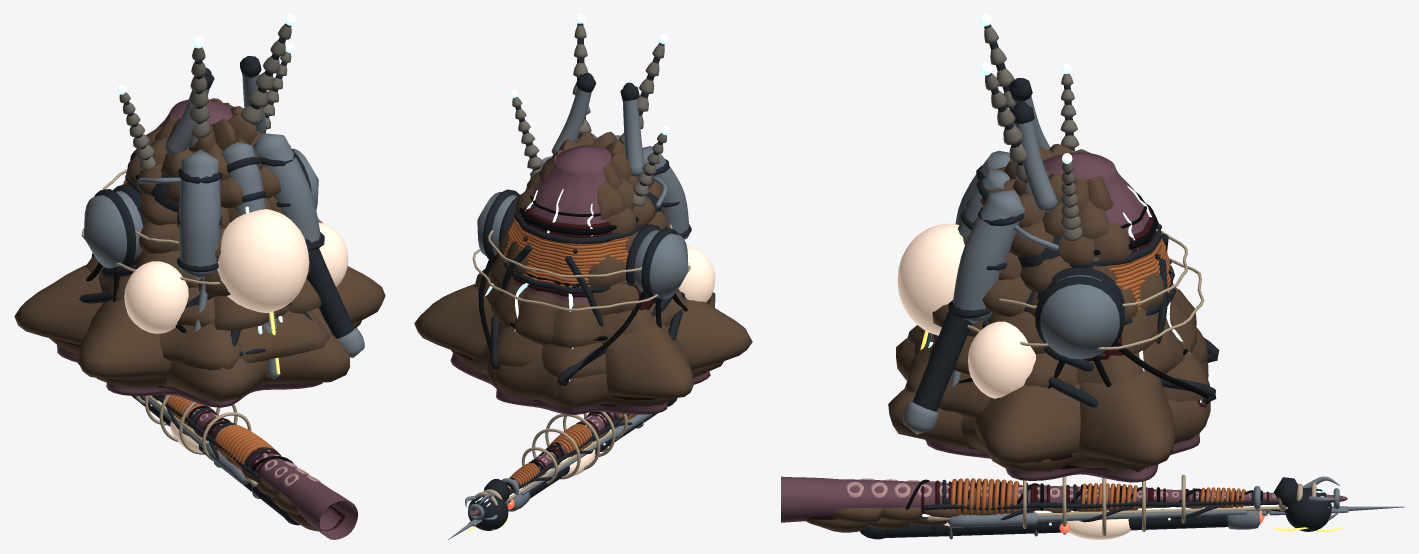
File: v2_arm.glb
3 views of the same model, side by side, from view 1: azimuth 30°, elevation 25°; view 2: azimuth 150°, elevation 25°; view 3: azimuth 270°, elevation 25° (orthographic). The views are drawn at different scales.
Visible parts, largest first — view 1: Tor_Husk, Tor_Blast, Tor_Shard, Tor_ArcCeramic, ArmSkin, Tor_Hook, Tor_ShardDark, V2Torso, Tor_Seek, Mut_Arc, Mut_BlastBone, Tor_HookDark (+9 smaller); view 2: Tor_Husk, V2Torso, Tor_Shard, Tor_Arc, Tor_Hook, Tor_ArcCeramic, Tor_ShardDark, Tor_HookDark, Tor_ArcDark, Mut_BlastBone, Tor_HookCable, Tor_Blast (+10 smaller); view 3: Tor_Husk, Tor_Blast, Tor_Shard, ArmSkin, V2Torso, Tor_Hook, Tor_ArcCeramic, Tor_ShardDark, Mut_Arc, Mut_Seek, Mut_Carapace, Tor_Seek (+13 smaller).
Boxes of the visible parts, bbox=[...] form: Tor_Husk: bbox=[14, 98, 385, 402]; Tor_Blast: bbox=[124, 209, 348, 333]; Tor_Shard: bbox=[165, 74, 320, 333]; Tor_ArcCeramic: bbox=[119, 24, 291, 170]; ArmSkin: bbox=[164, 394, 357, 539]; Tor_Hook: bbox=[83, 148, 318, 268]; Tor_ShardDark: bbox=[79, 56, 324, 346]; V2Torso: bbox=[57, 99, 322, 407]; Tor_Seek: bbox=[305, 238, 354, 338]; Mut_Arc: bbox=[163, 394, 274, 469]; Mut_BlastBone: bbox=[135, 395, 257, 486]; Tor_HookDark: bbox=[94, 153, 311, 268]; Tor_Husk: bbox=[414, 131, 752, 407]; V2Torso: bbox=[450, 145, 710, 414]; Tor_Shard: bbox=[545, 88, 689, 269]; Tor_Arc: bbox=[503, 217, 629, 287]; Tor_Hook: bbox=[477, 192, 688, 299]; Tor_ArcCeramic: bbox=[512, 25, 666, 206]; Tor_ShardDark: bbox=[490, 73, 691, 385]; Tor_HookDark: bbox=[483, 189, 678, 301]; Tor_ArcDark: bbox=[497, 23, 664, 294]; Mut_BlastBone: bbox=[475, 411, 627, 505]; Tor_HookCable: bbox=[478, 195, 687, 385]; Tor_Blast: bbox=[678, 246, 715, 302]; Tor_Husk: bbox=[888, 144, 1210, 472]; Tor_Blast: bbox=[897, 223, 1035, 398]; Tor_Shard: bbox=[924, 96, 1058, 347]; ArmSkin: bbox=[781, 476, 1347, 522]; V2Torso: bbox=[925, 152, 1199, 482]; Tor_Hook: bbox=[1040, 275, 1119, 359]; Tor_ArcCeramic: bbox=[984, 26, 1082, 240]; Tor_ShardDark: bbox=[921, 78, 1219, 407]; Mut_Arc: bbox=[950, 478, 1245, 515]; Mut_Seek: bbox=[860, 515, 1228, 539]; Mut_Carapace: bbox=[805, 504, 1276, 532]; Tor_Seek: bbox=[913, 300, 971, 411].
Size of the model in its own units: 1.48 by 2.14 by 2.42.
